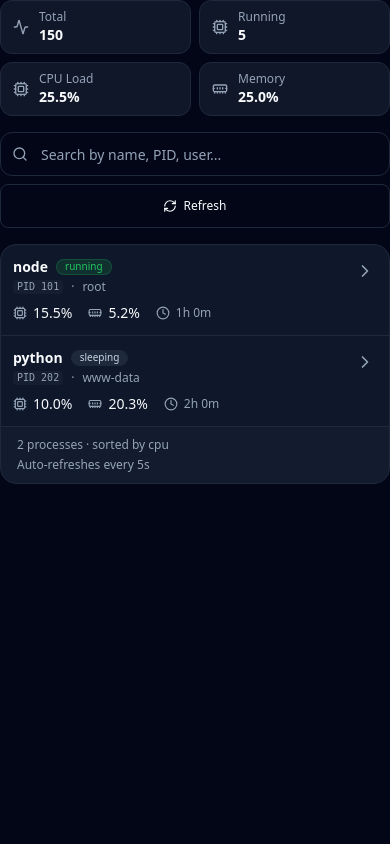
Test case: ProcessWidget › expands a process to show details
// Find expand button for PID 101
Click the button with aria-label "Expand details for process node (101)" at [30, 266], box [13,257,377,295]
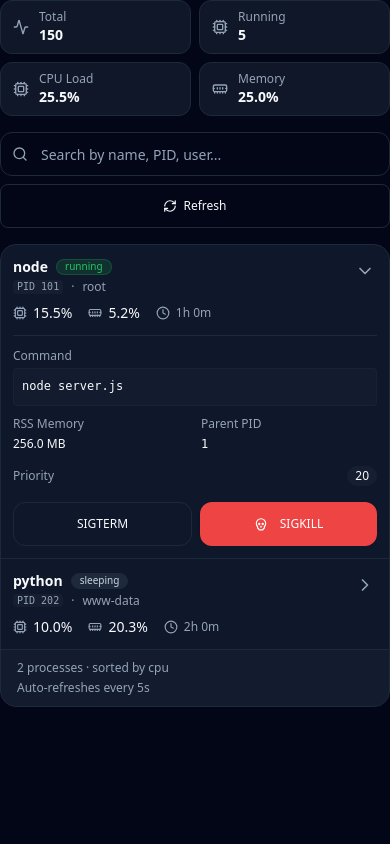
Check: the text "node server.js" is shown, box [13,368,377,406]
Check: the text "256.0 MB" is shown, box [13,434,66,452]
